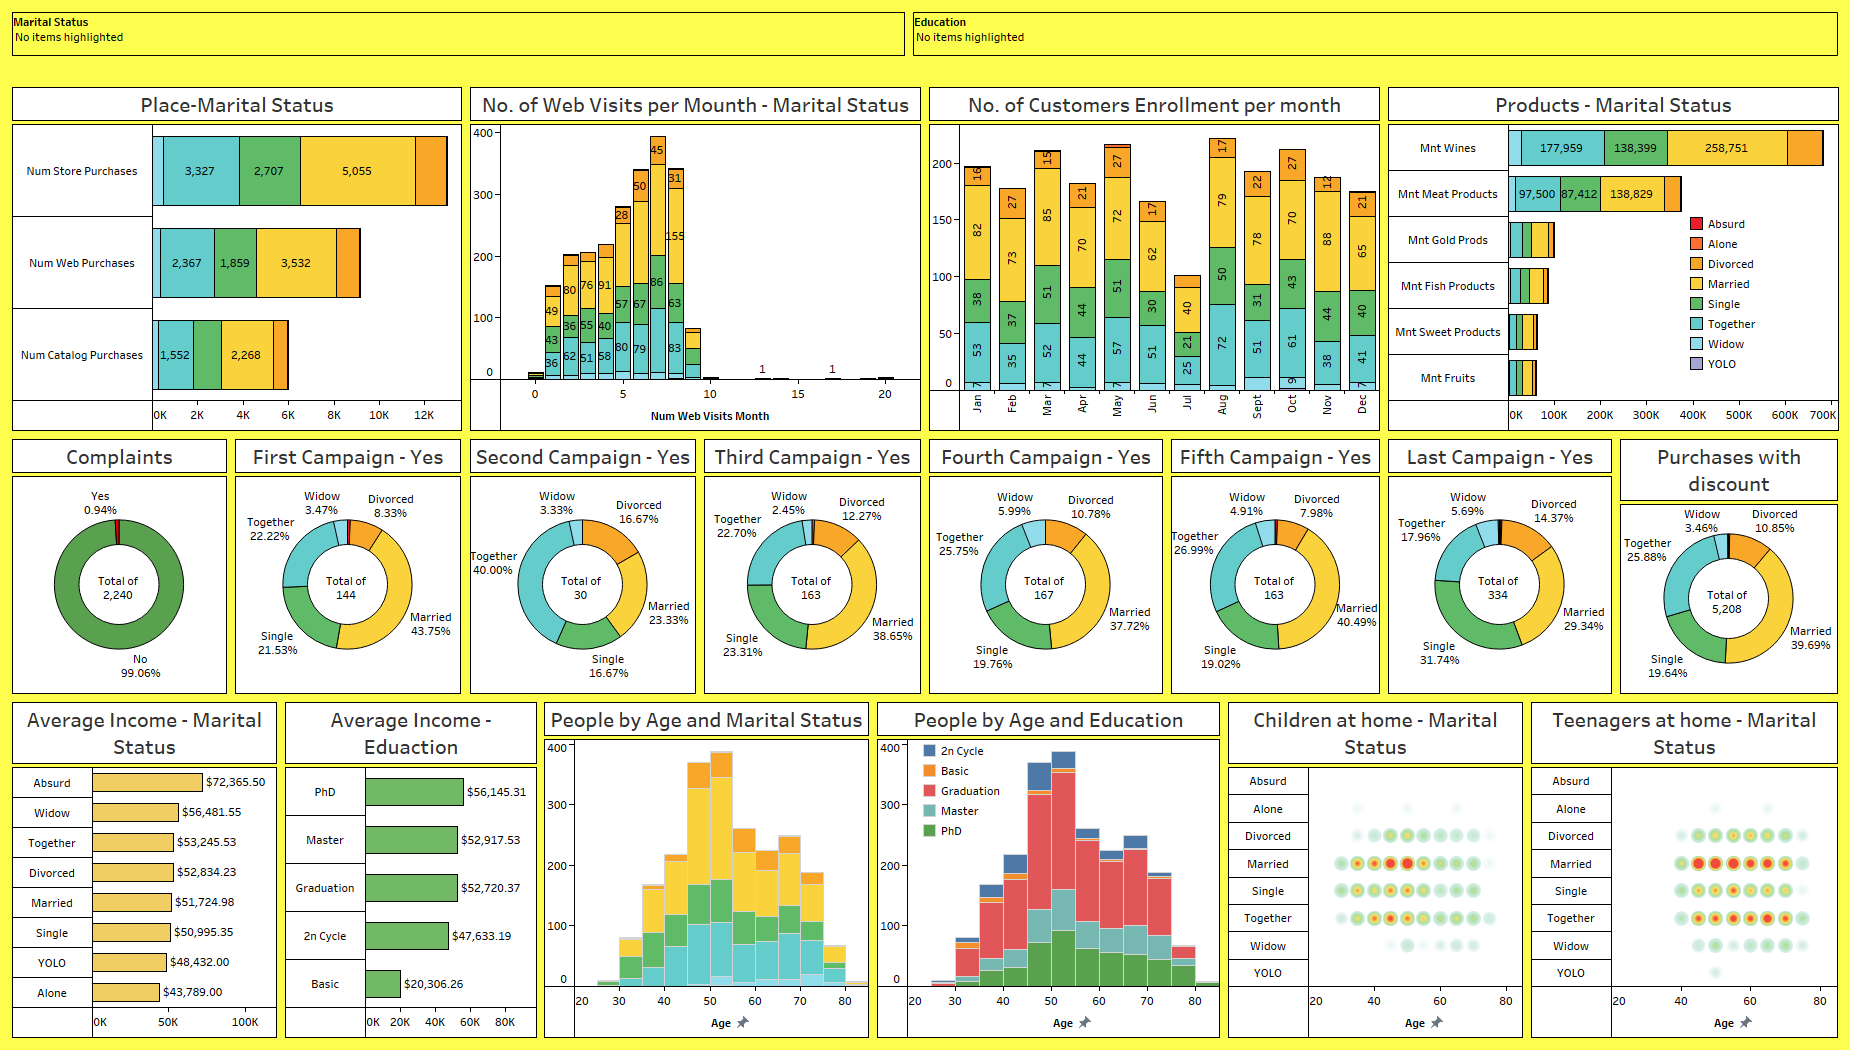

The page's visual inventory and layout, read from the dashboard file:
{"tool":"tableau","page":{"name":"Customer Analysis Dashboard -Aayushi Rana","canvas":[1850,1050],"ordinal":0},"visuals":[{"type":"highlighter","title":"Place-Marital Status","param":"[federated.0b2r2y11u9ehuv175u1lm0waqlom].[none:Marital_Status:nk]","box":[8,8,901,52]},{"type":"highlighter","title":"People by Age and Education","param":"[federated.0b2r2y11u9ehuv175u1lm0waqlom].[none:Education:nk]","box":[909,8,933,52]},{"type":"worksheet","title":"Place-Marital Status","mark":"Automatic","box":[8,83,458.5,352]},{"type":"worksheet","title":"No. of Web Visits per Mounth - Marital Status","mark":"Bar","rows":["ID"],"cols":["NumWebVisitsMonth"],"box":[466.5,83,458.5,352]},{"type":"worksheet","title":"No. of Customers Enrollment per month","mark":"Bar","rows":["ID"],"cols":["Dt_Customer"],"box":[925,83,458.5,352]},{"type":"worksheet","title":"Products - Marital Status","mark":"Bar","box":[1383.5,83,458.5,352]},{"type":"legend","title":"Place-Marital Status","param":"[federated.0b2r2y11u9ehuv175u1lm0waqlom].[none:Marital_Status:nk]","box":[1686,213,140,176]},{"type":"worksheet","title":"Complaints","mark":"Pie","rows":["Calculation_978407080716406788","Calculation_978407080716406788"],"box":[8,435,223.5,263]},{"type":"worksheet","title":"First Campaign - Yes","mark":"Pie","rows":["Calculation_978407080716406788","Calculation_978407080716406788"],"box":[231.5,435,234.5,263]},{"type":"worksheet","title":"Second Campaign - Yes","mark":"Pie","rows":["Calculation_978407080716406788","Calculation_978407080716406788"],"box":[465.9,435,234.5,263]},{"type":"worksheet","title":"Third Campaign - Yes","mark":"Pie","rows":["Calculation_978407080716406788","Calculation_978407080716406788"],"box":[700.4,435,224.6,263]},{"type":"worksheet","title":"Fourth Campaign - Yes","mark":"Pie","rows":["Calculation_978407080716406788","Calculation_978407080716406788"],"box":[925,435,242.1,263]},{"type":"worksheet","title":"Fifth Campaign - Yes","mark":"Pie","rows":["Calculation_978407080716406788","Calculation_978407080716406788"],"box":[1167.1,435,216.9,263]},{"type":"worksheet","title":"Last Campaign - Yes","mark":"Pie","rows":["Calculation_978407080716406788","Calculation_978407080716406788"],"box":[1384,435,232.3,263]},{"type":"worksheet","title":"Purchases with discount","mark":"Pie","rows":["Calculation_978407080716406788","Calculation_978407080716406788"],"box":[1616.3,435,225.7,263]},{"type":"worksheet","title":"Average Income - Marital Status","mark":"Bar","rows":["Marital_Status"],"cols":["Income"],"box":[8,698,272.8,344]},{"type":"worksheet","title":"Average Income - Eduaction","mark":"Bar","rows":["Education"],"cols":["Income"],"box":[280.8,698,259.5,344]},{"type":"worksheet","title":"People by Age and Marital Status","mark":"Automatic","rows":["Calculation_978407080827490309"],"cols":["Age (bin)"],"box":[540.3,698,332.7,344]},{"type":"worksheet","title":"People by Age and Education","mark":"Automatic","rows":["Calculation_978407080827490309"],"cols":["Age (bin)"],"box":[873,698,351.1,344]},{"type":"worksheet","title":"Children at home - Marital Status","mark":"Heatmap","rows":["Marital_Status"],"cols":["Age (bin)"],"box":[1224.1,698,302.9,344]},{"type":"worksheet","title":"Teenagers at home - Marital Status","mark":"Heatmap","rows":["Marital_Status"],"cols":["Age (bin)"],"box":[1527,698,315,344]},{"type":"legend","title":"People by Age and Education","param":"[federated.0b2r2y11u9ehuv175u1lm0waqlom].[none:Education:nk]","box":[919,740,101,119]}]}

Visuals, with their boxes in screenshot pixels (x1, y1, x2, y2), scaled from the page's 1850x1050 canvas onto the 1850x1050 screenshot:
"Place-Marital Status" highlighter: left=8, top=8, right=909, bottom=60
"People by Age and Education" highlighter: left=909, top=8, right=1842, bottom=60
"Place-Marital Status" worksheet: left=8, top=83, right=466, bottom=435
"No. of Web Visits per Mounth - Marital Status" worksheet (Bar marks): left=466, top=83, right=925, bottom=435
"No. of Customers Enrollment per month" worksheet (Bar marks): left=925, top=83, right=1384, bottom=435
"Products - Marital Status" worksheet (Bar marks): left=1384, top=83, right=1842, bottom=435
"Place-Marital Status" legend: left=1686, top=213, right=1826, bottom=389
"Complaints" worksheet (Pie marks): left=8, top=435, right=232, bottom=698
"First Campaign - Yes" worksheet (Pie marks): left=232, top=435, right=466, bottom=698
"Second Campaign - Yes" worksheet (Pie marks): left=466, top=435, right=700, bottom=698
"Third Campaign - Yes" worksheet (Pie marks): left=700, top=435, right=925, bottom=698
"Fourth Campaign - Yes" worksheet (Pie marks): left=925, top=435, right=1167, bottom=698
"Fifth Campaign - Yes" worksheet (Pie marks): left=1167, top=435, right=1384, bottom=698
"Last Campaign - Yes" worksheet (Pie marks): left=1384, top=435, right=1616, bottom=698
"Purchases with discount" worksheet (Pie marks): left=1616, top=435, right=1842, bottom=698
"Average Income - Marital Status" worksheet (Bar marks): left=8, top=698, right=281, bottom=1042
"Average Income - Eduaction" worksheet (Bar marks): left=281, top=698, right=540, bottom=1042
"People by Age and Marital Status" worksheet: left=540, top=698, right=873, bottom=1042
"People by Age and Education" worksheet: left=873, top=698, right=1224, bottom=1042
"Children at home - Marital Status" worksheet (Heatmap marks): left=1224, top=698, right=1527, bottom=1042
"Teenagers at home - Marital Status" worksheet (Heatmap marks): left=1527, top=698, right=1842, bottom=1042
"People by Age and Education" legend: left=919, top=740, right=1020, bottom=859
